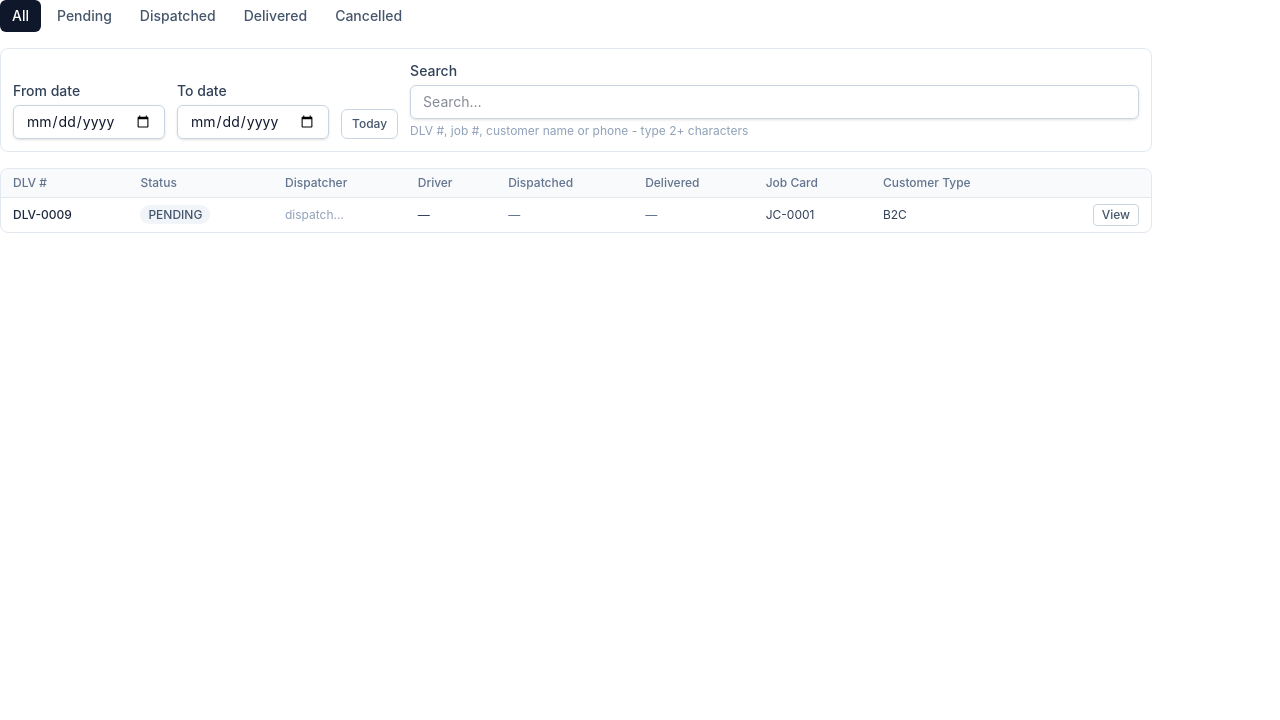
DeliveriesPage - list and status filter › selecting a delivery sets ?deliveryId= and opens its detail in a popup
Check: the text "DLV-0009" is shown, box 13,207 -> 72,222
What coordinates should you click on to do the following:
click the button "View"
I would click on:
 (1116, 215)
Its box is 1093,204 -> 1139,226.
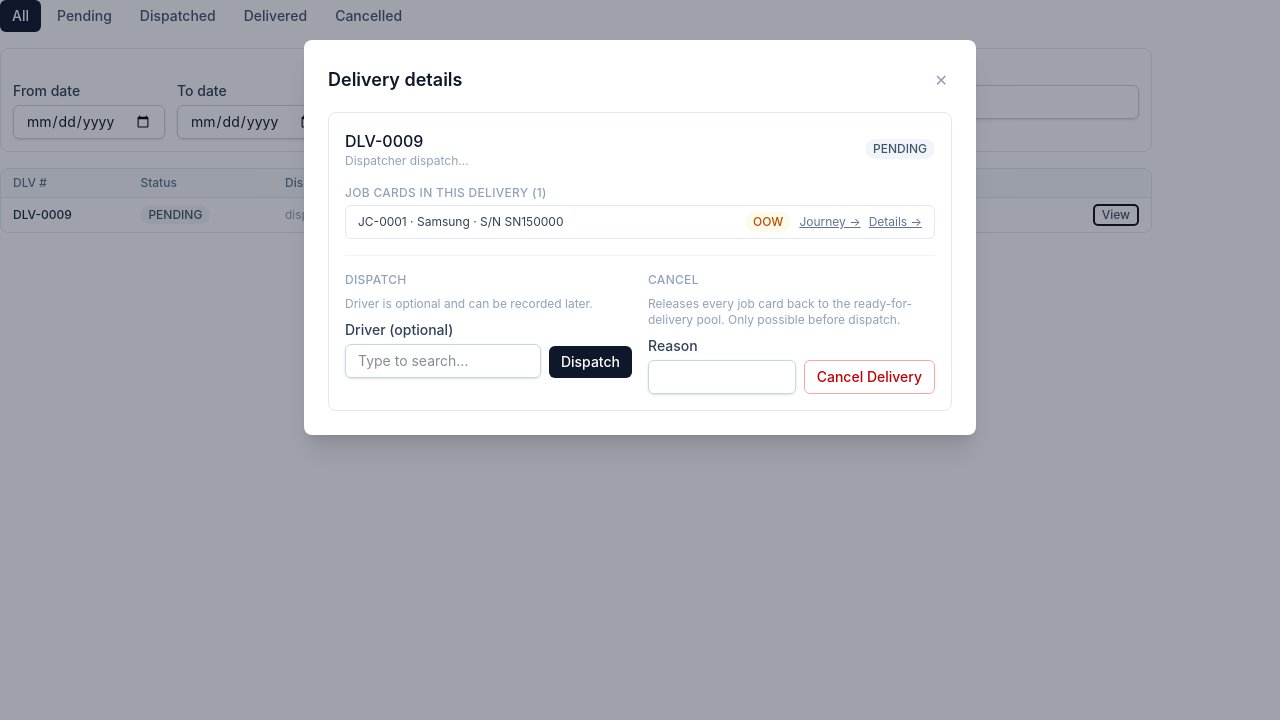
Check: the text "Job cards in this delivery (1)" is shown, box 345,185 -> 547,200
